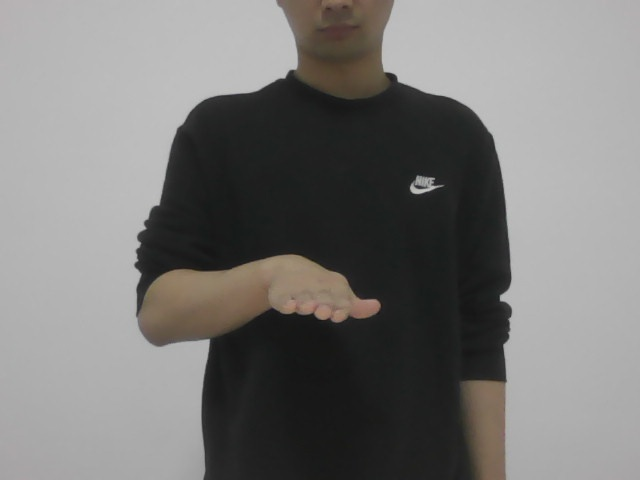slow: (254, 245, 384, 334)
